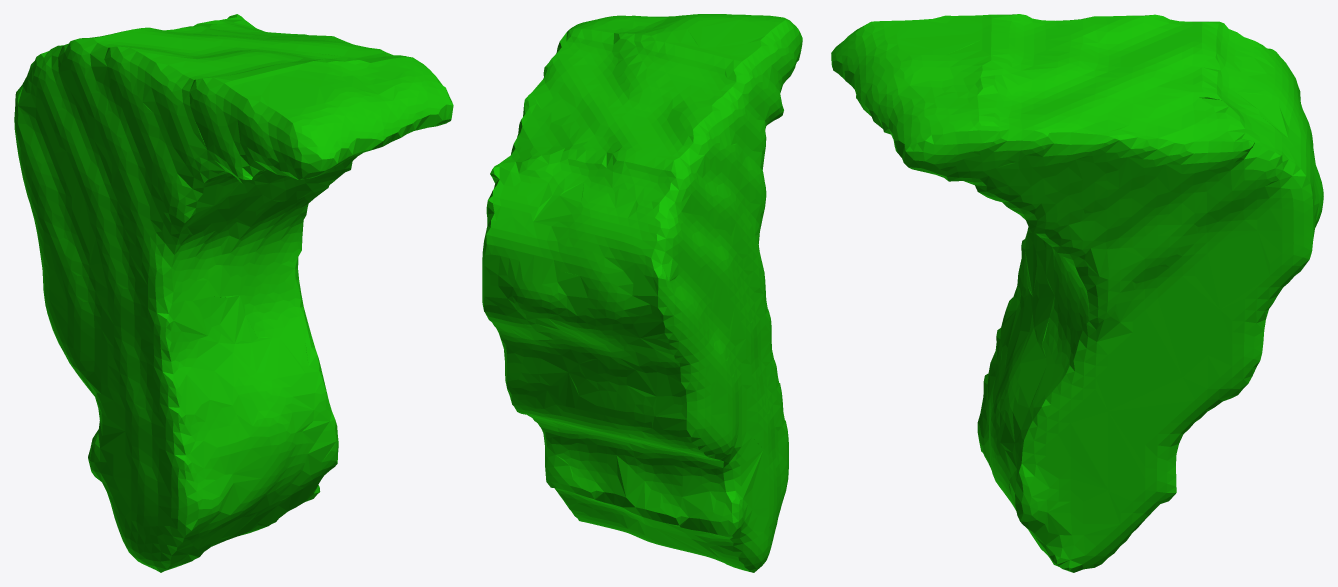
Rendered from Model_10091_LH__Fundus_of_superior_temporal_sulcus_area_of_cortex_(FST).obj.
3 renders of one model, left to right at view 1: azimuth 30°, elevation 25°; view 2: azimuth 150°, elevation 25°; view 3: azimuth 270°, elevation 25°, orthographic. The views are drawn at different scales.
Size of the model in its own units: 2.6 by 4.62 by 3.97.
